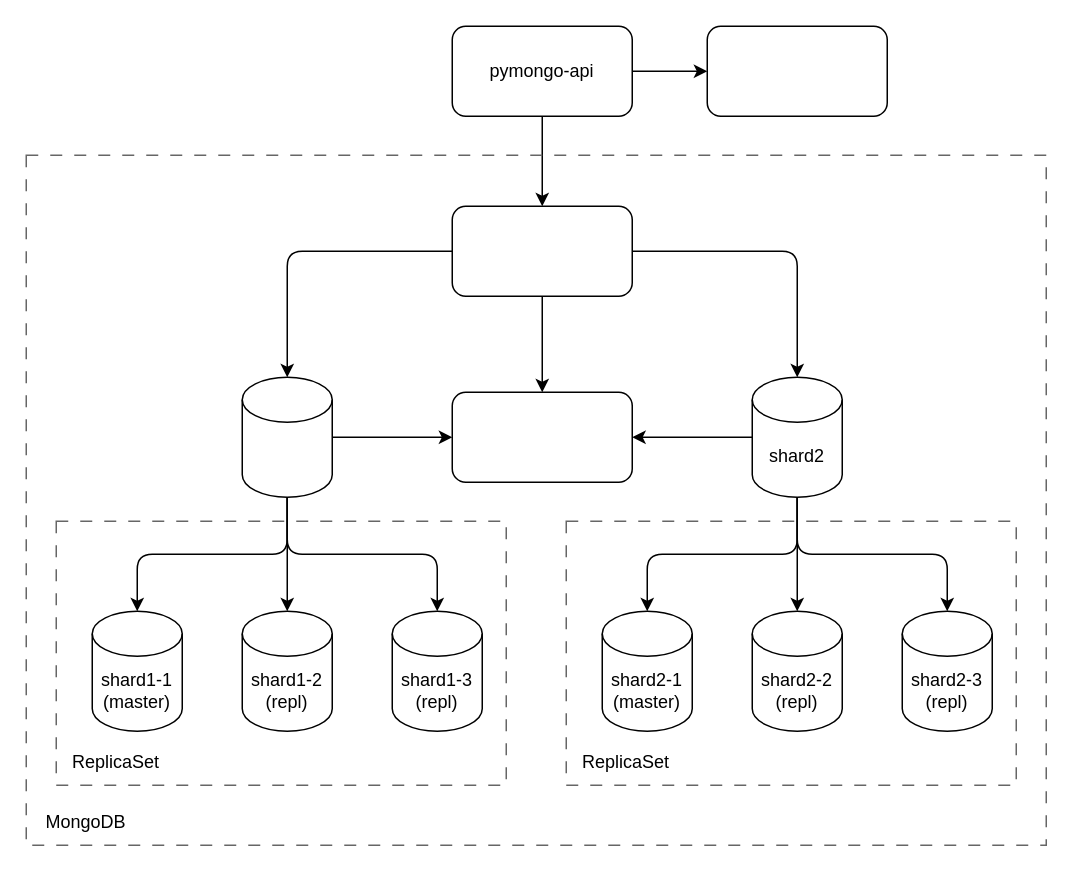
This 1073x872 diagram has some shape labels left out. Here are the shapes that lost their labels. From the top down, the box of each, then its label:
(706, 25, 887, 116): redis
(451, 205, 632, 296): router
(241, 376, 332, 497): shard1
(451, 391, 632, 482): configSrv
